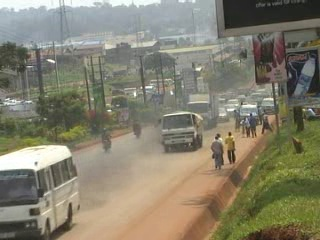Car: (216, 104, 229, 123), (225, 96, 243, 108), (228, 105, 238, 117), (236, 92, 248, 102)
Motorcycle: (99, 127, 112, 153), (131, 118, 144, 140)
